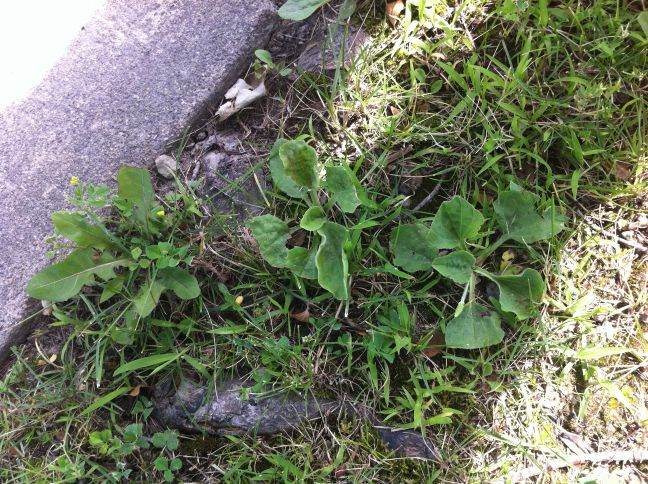weed1: (377, 183, 573, 365), (249, 133, 376, 307)
